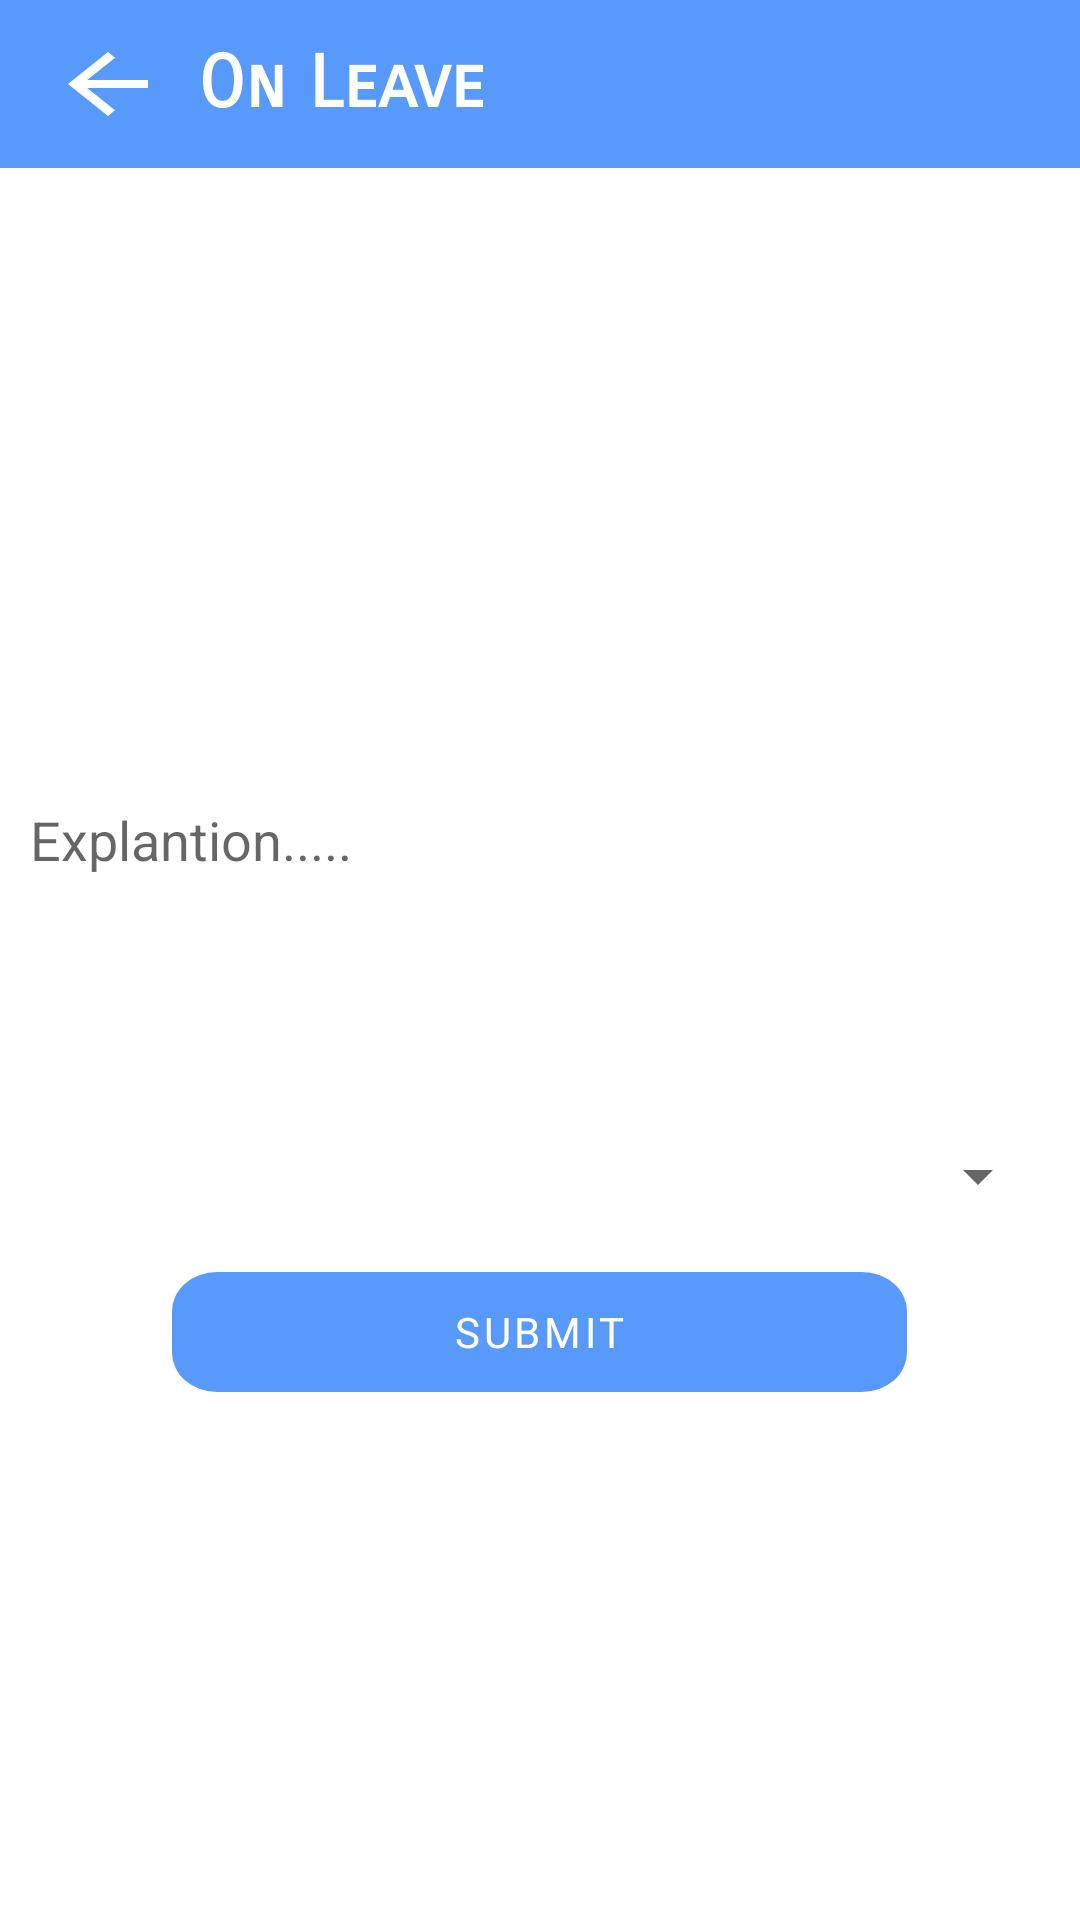

Icon bounding boxes for this 1080 × 1920 phone screenshot, format (x1, y1, x2, y2):
back arrow: (68, 52, 148, 116)
